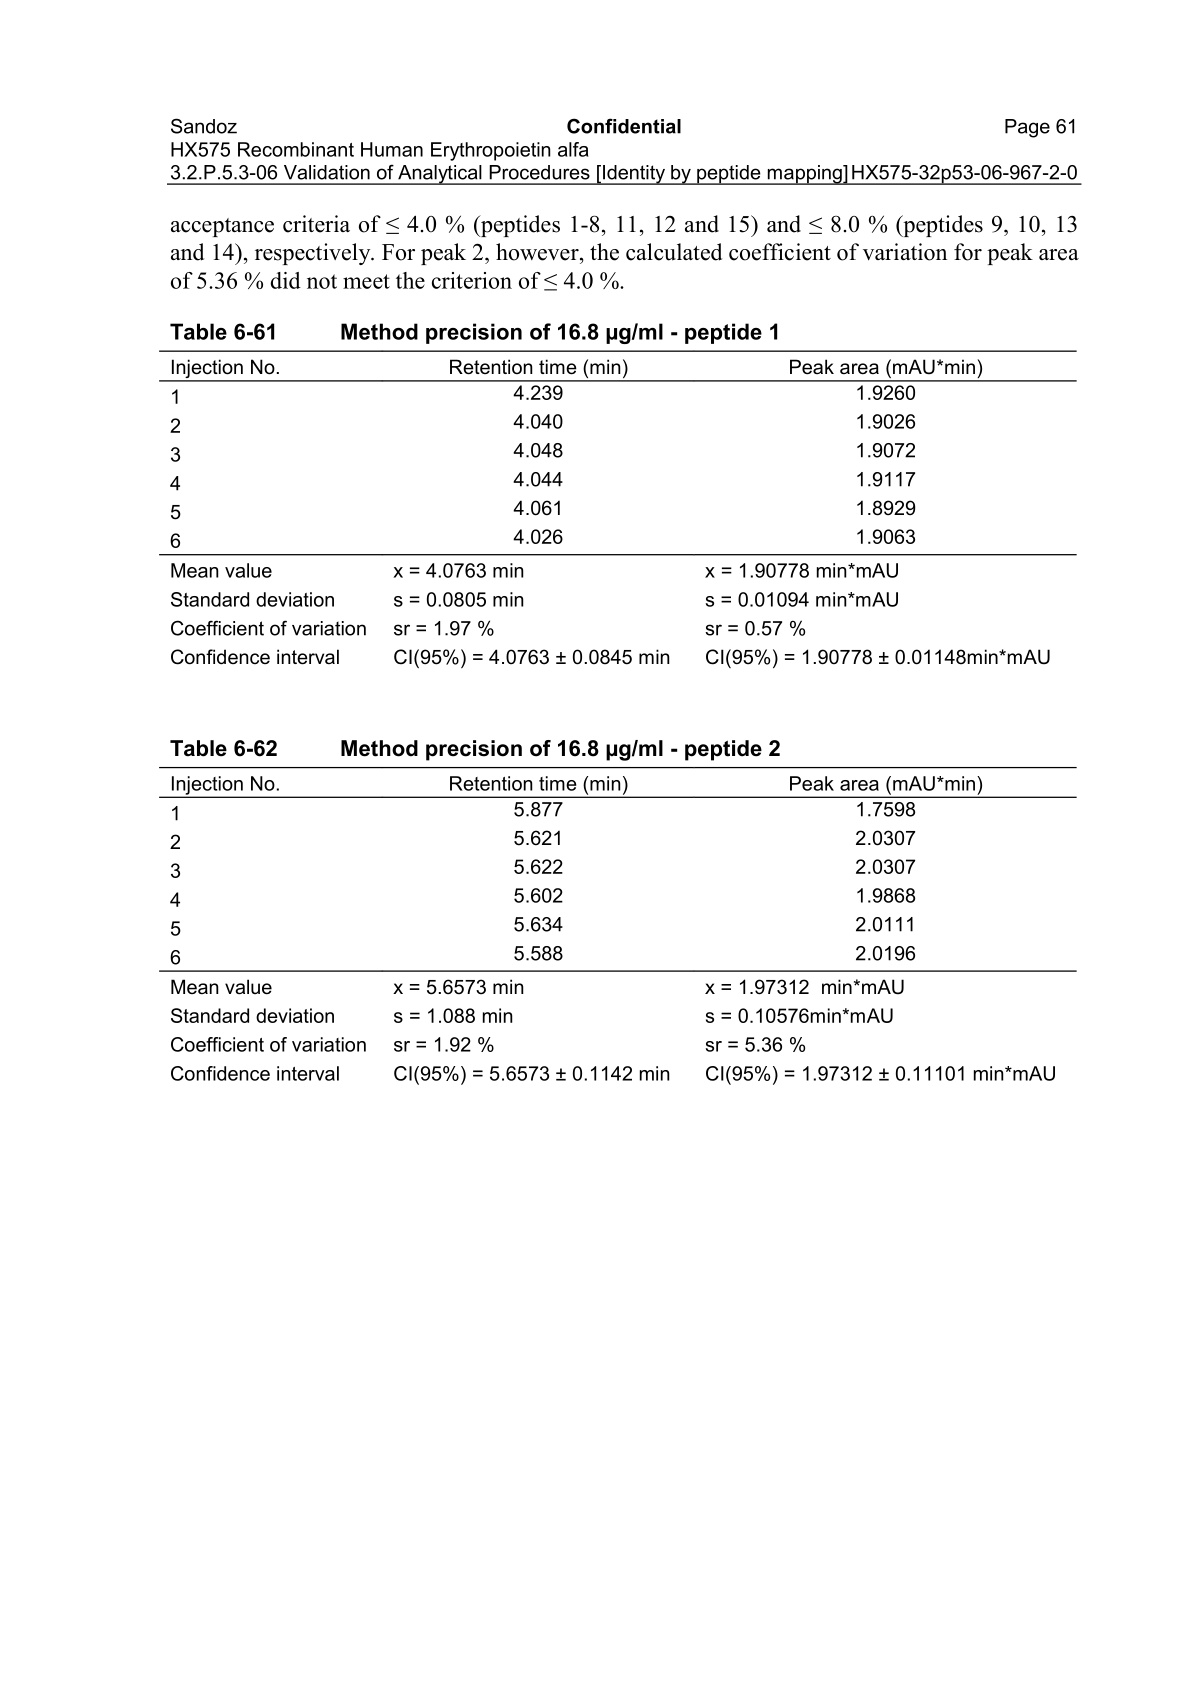partial_lined: (159, 765, 1078, 1086), (159, 349, 1076, 670)
